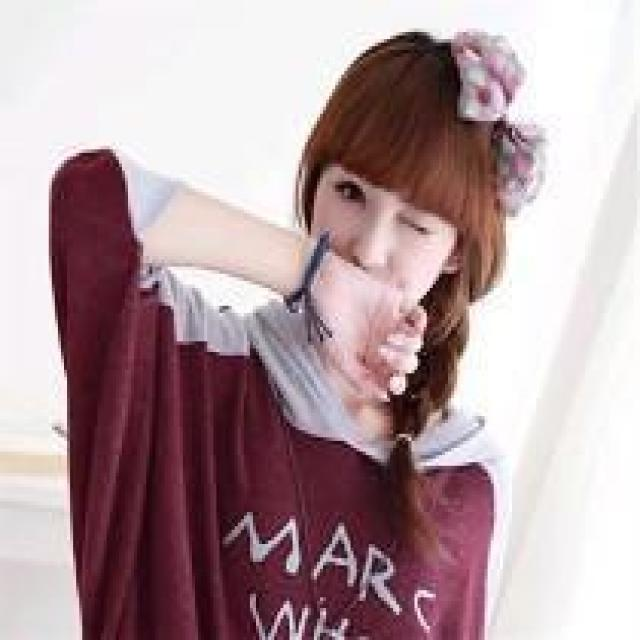mask: (303, 138, 459, 330)
